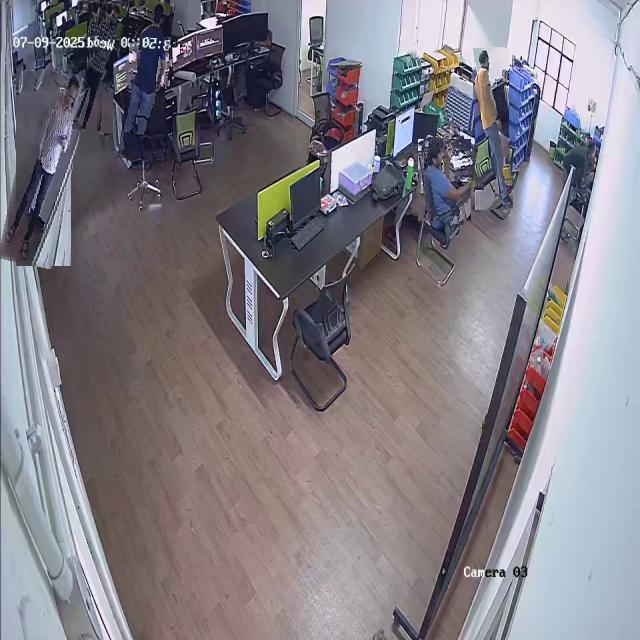person: (6, 69, 81, 268), (123, 0, 170, 160), (473, 48, 511, 210), (80, 2, 120, 134), (415, 137, 474, 223)
